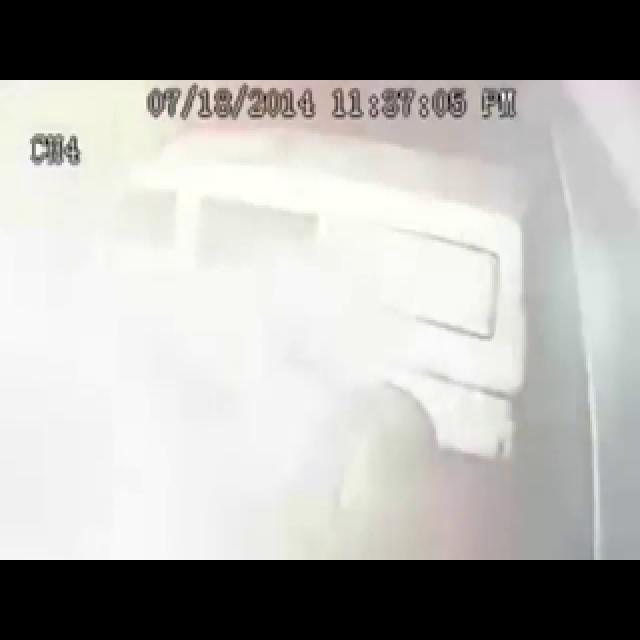arson: (0, 84, 469, 547)
